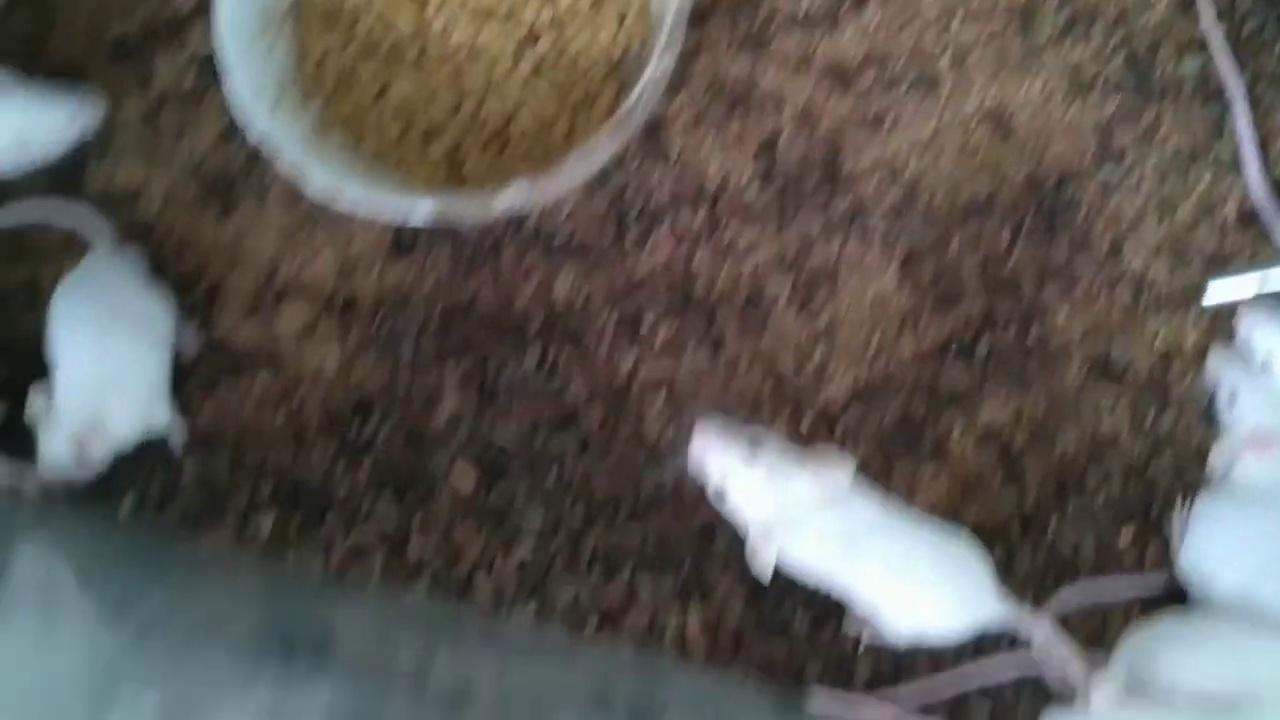rat: (689, 417, 1092, 676), (0, 207, 190, 481)
